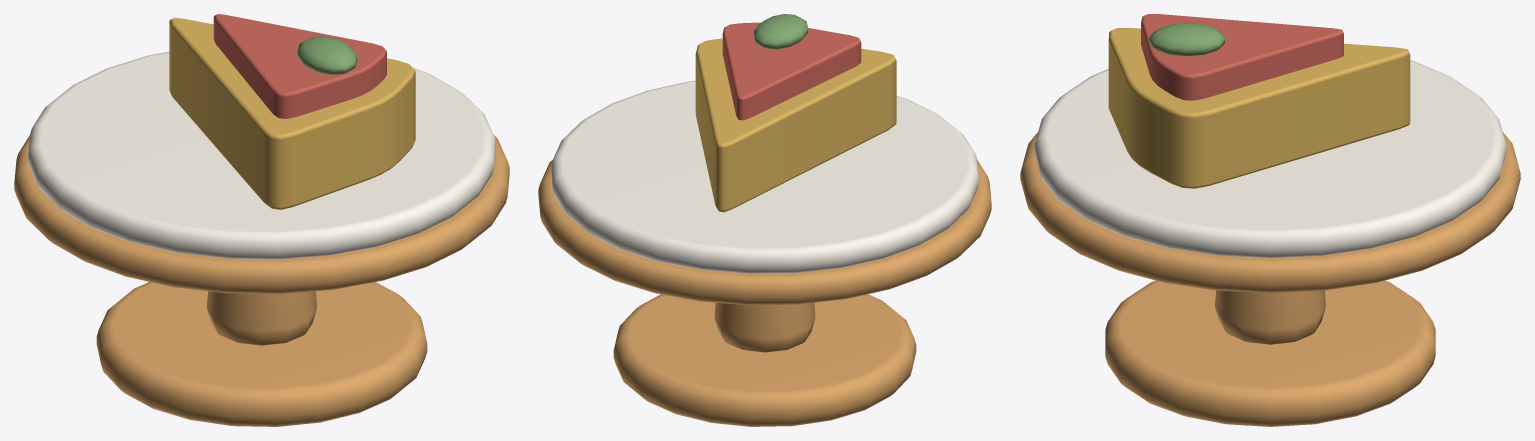
Rendered from apple_tart_slice.glb.
The picture shows the model from 3 angles, left to right: view 1: azimuth 30°, elevation 25°; view 2: azimuth 150°, elevation 25°; view 3: azimuth 270°, elevation 25°; orthographic projection. The views are drawn at different scales.
Visible parts, largest first — view 1: apple_tart_slice_mesh; view 2: apple_tart_slice_mesh; view 3: apple_tart_slice_mesh.
Part boxes in pixels (x1,y1,x2,y2): apple_tart_slice_mesh: (14, 14, 509, 426); apple_tart_slice_mesh: (538, 14, 991, 426); apple_tart_slice_mesh: (1020, 14, 1520, 426).
Bounding box in the file's own units: 0.36 × 0.275 × 0.36.
